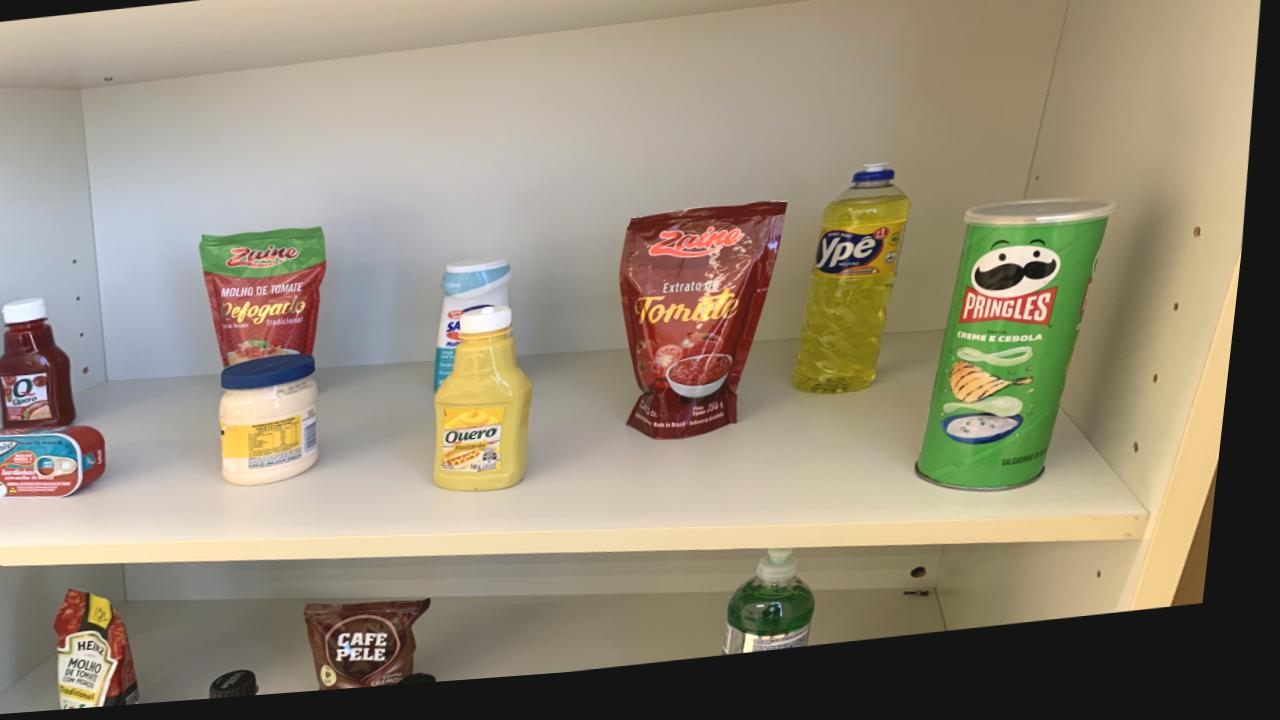Cleaner-Cleanup_Items: (443, 265, 521, 397)
Coffee-Pantry_Items: (318, 606, 444, 697)
Detergent-Cleanup_Items: (804, 178, 916, 408), (740, 560, 830, 667)
Ketchup-Pantry_Items: (2, 299, 85, 430)
Mayonnaise-Pantry_Items: (229, 358, 330, 491)
Mustard-Pantry_Items: (444, 313, 542, 500)
Pringles-Snacks: (929, 216, 1120, 508)
Soda-Drinks: (227, 675, 275, 703)
Tomato_Sauce-Pantry_Items: (626, 213, 794, 451), (205, 232, 333, 371), (69, 591, 155, 712)
Tuna_Can-Pantry_Items: (0, 428, 116, 500)
